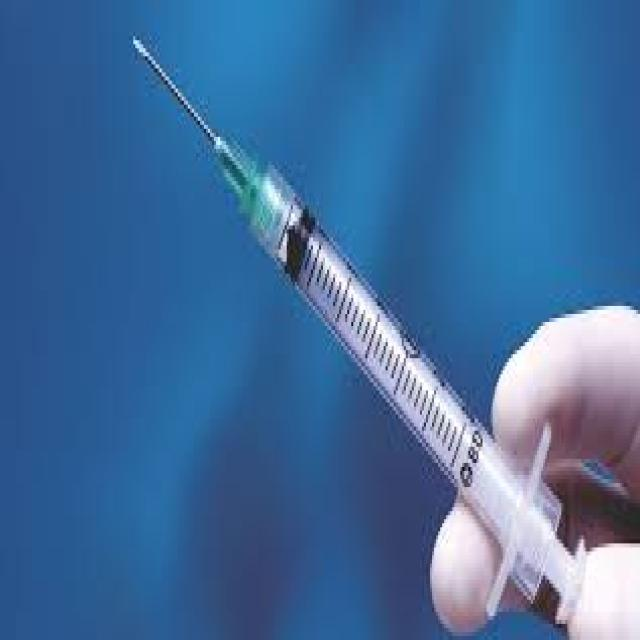syringe: (129, 28, 606, 632)
